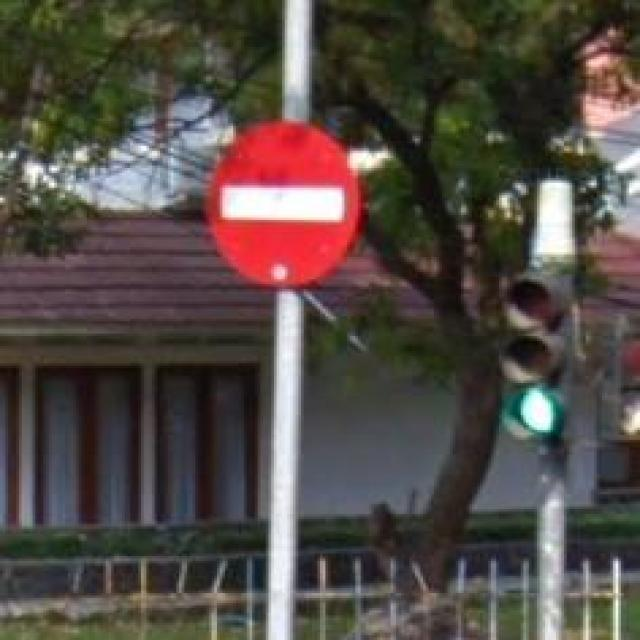traffic sign: (206, 121, 355, 286)
